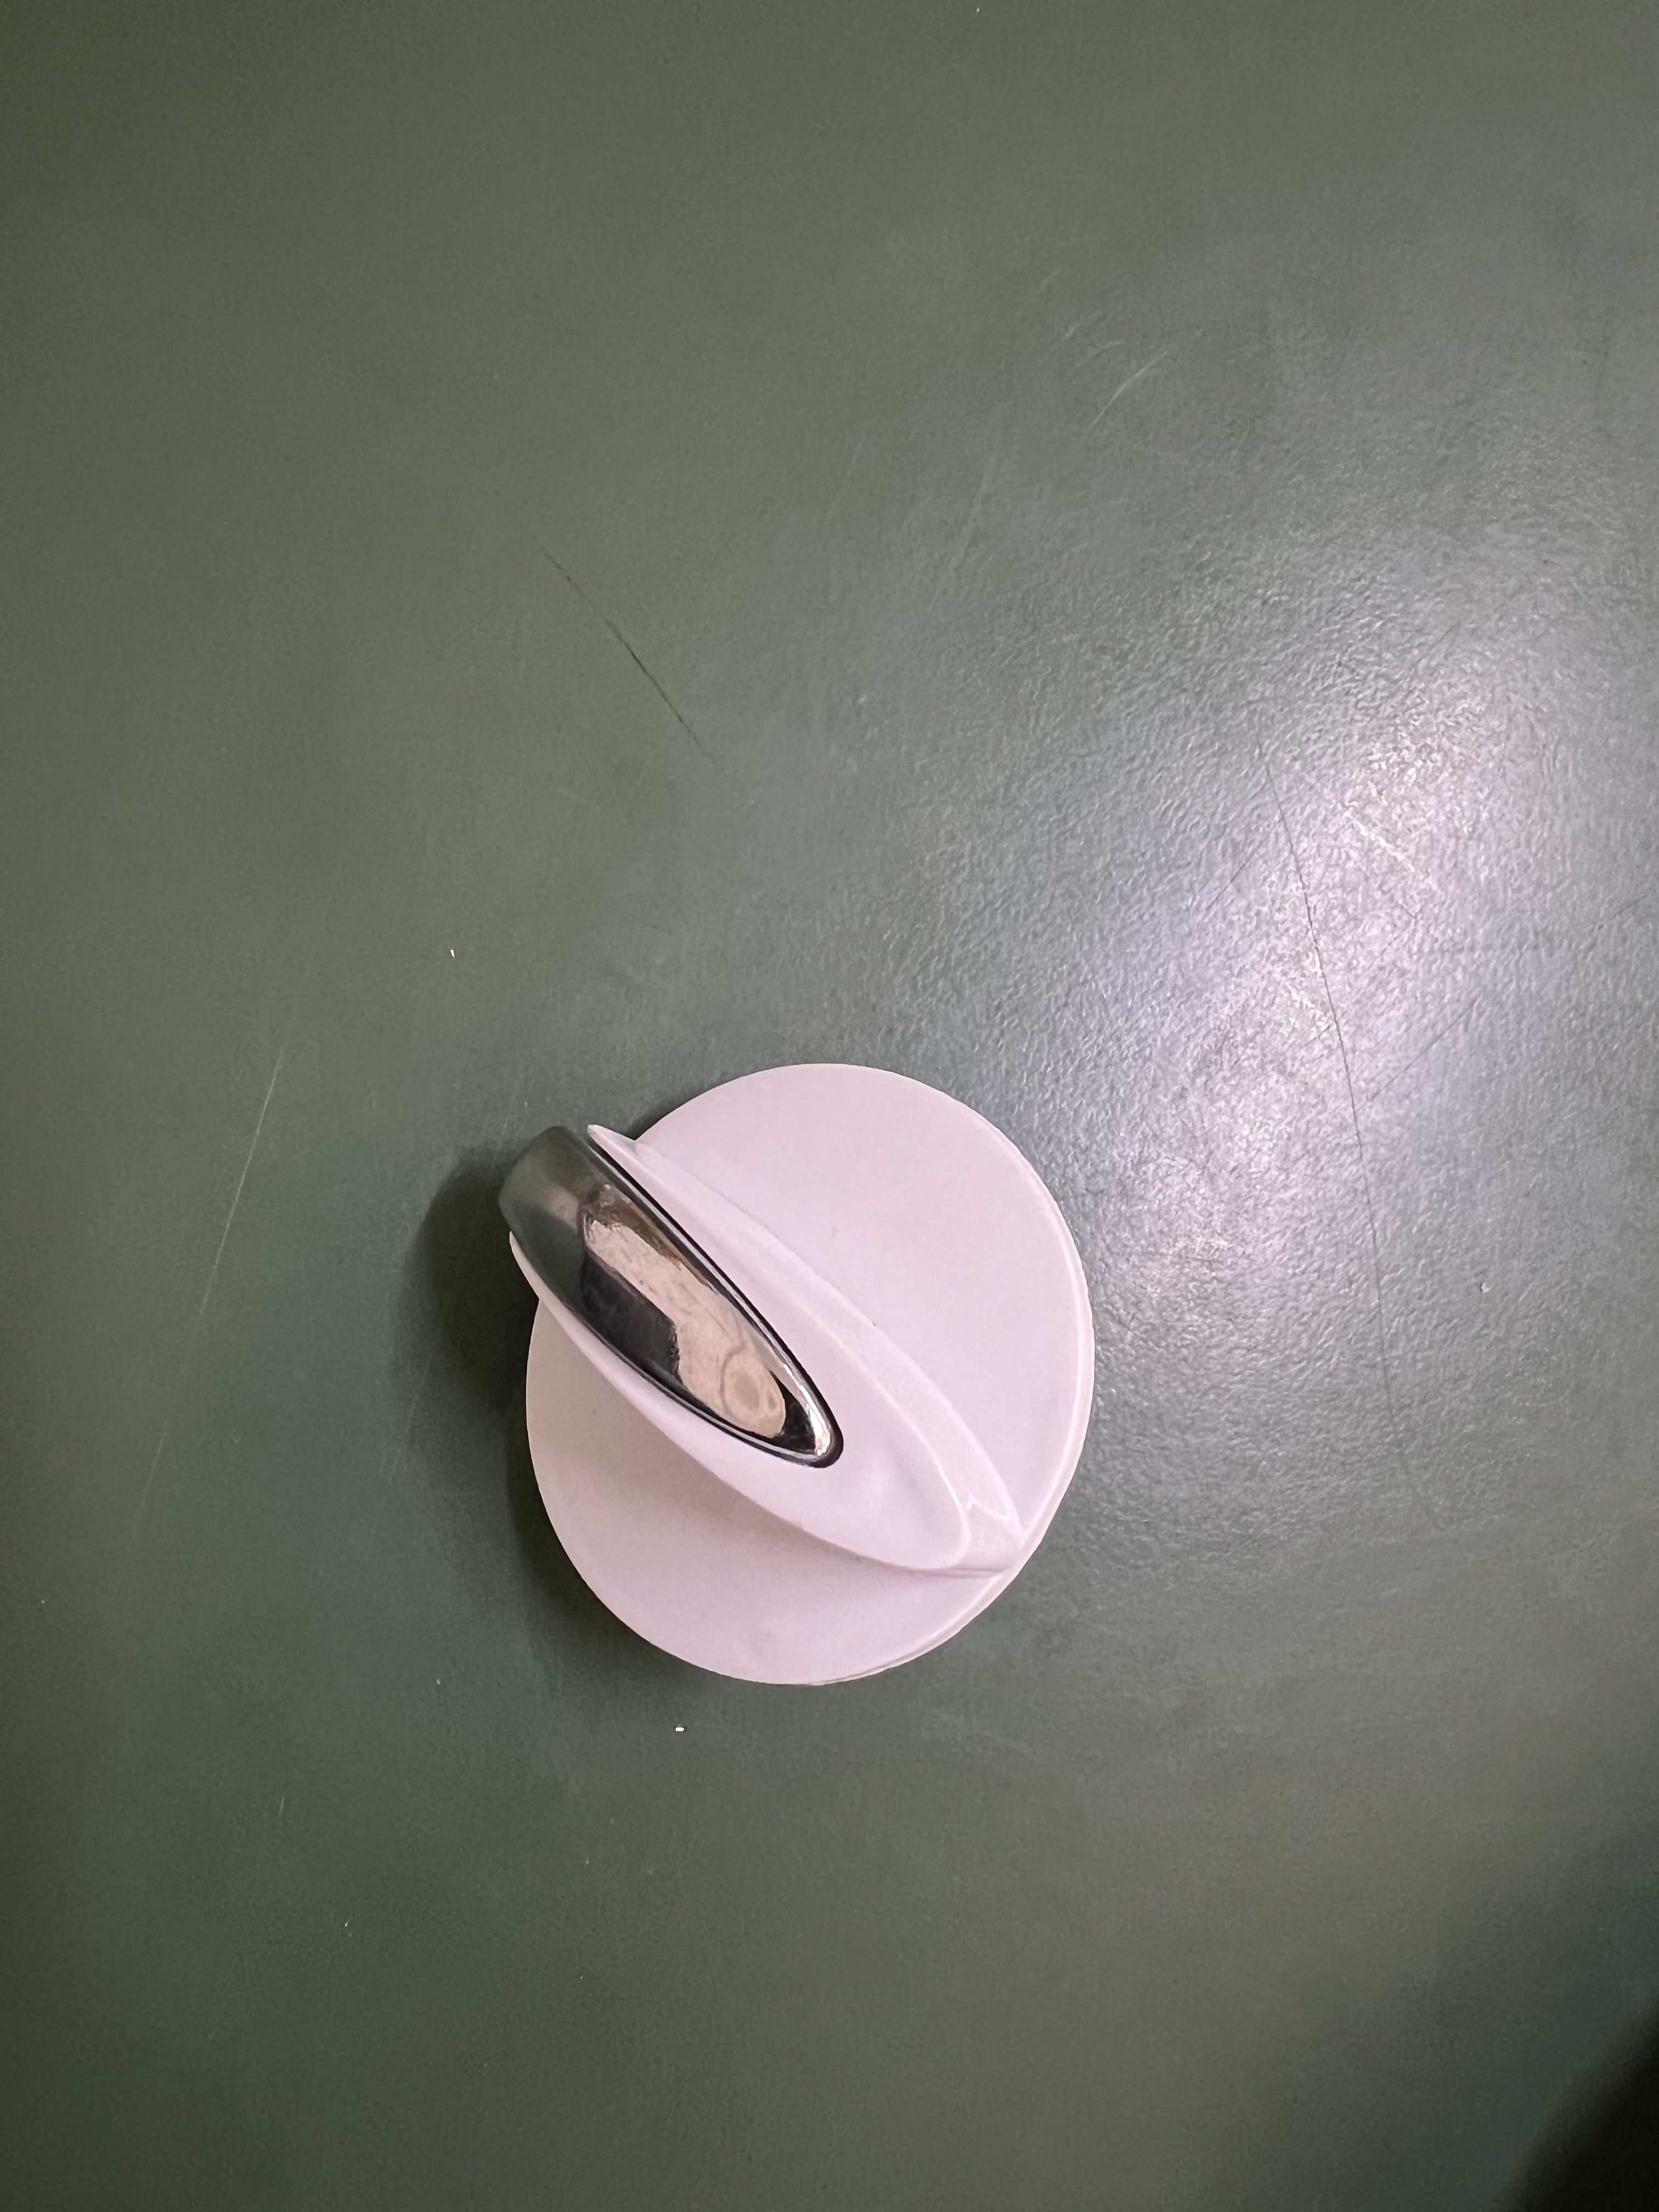regulator: (471, 1029, 1117, 1705)
